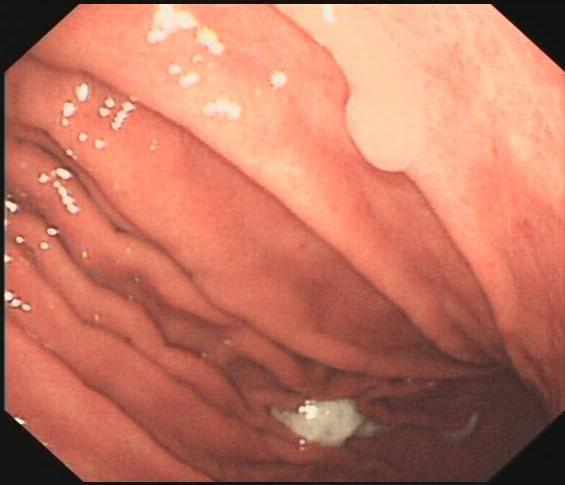Polyp: (339, 86, 422, 176)
